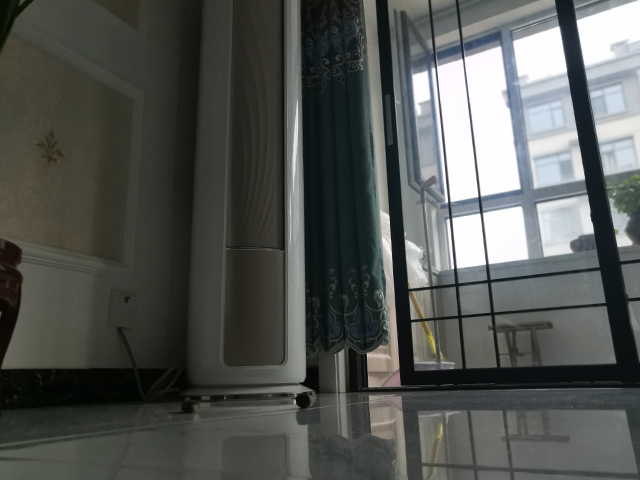curtain: (299, 1, 391, 357)
stool: (486, 319, 557, 367)
wire: (115, 326, 189, 403)
